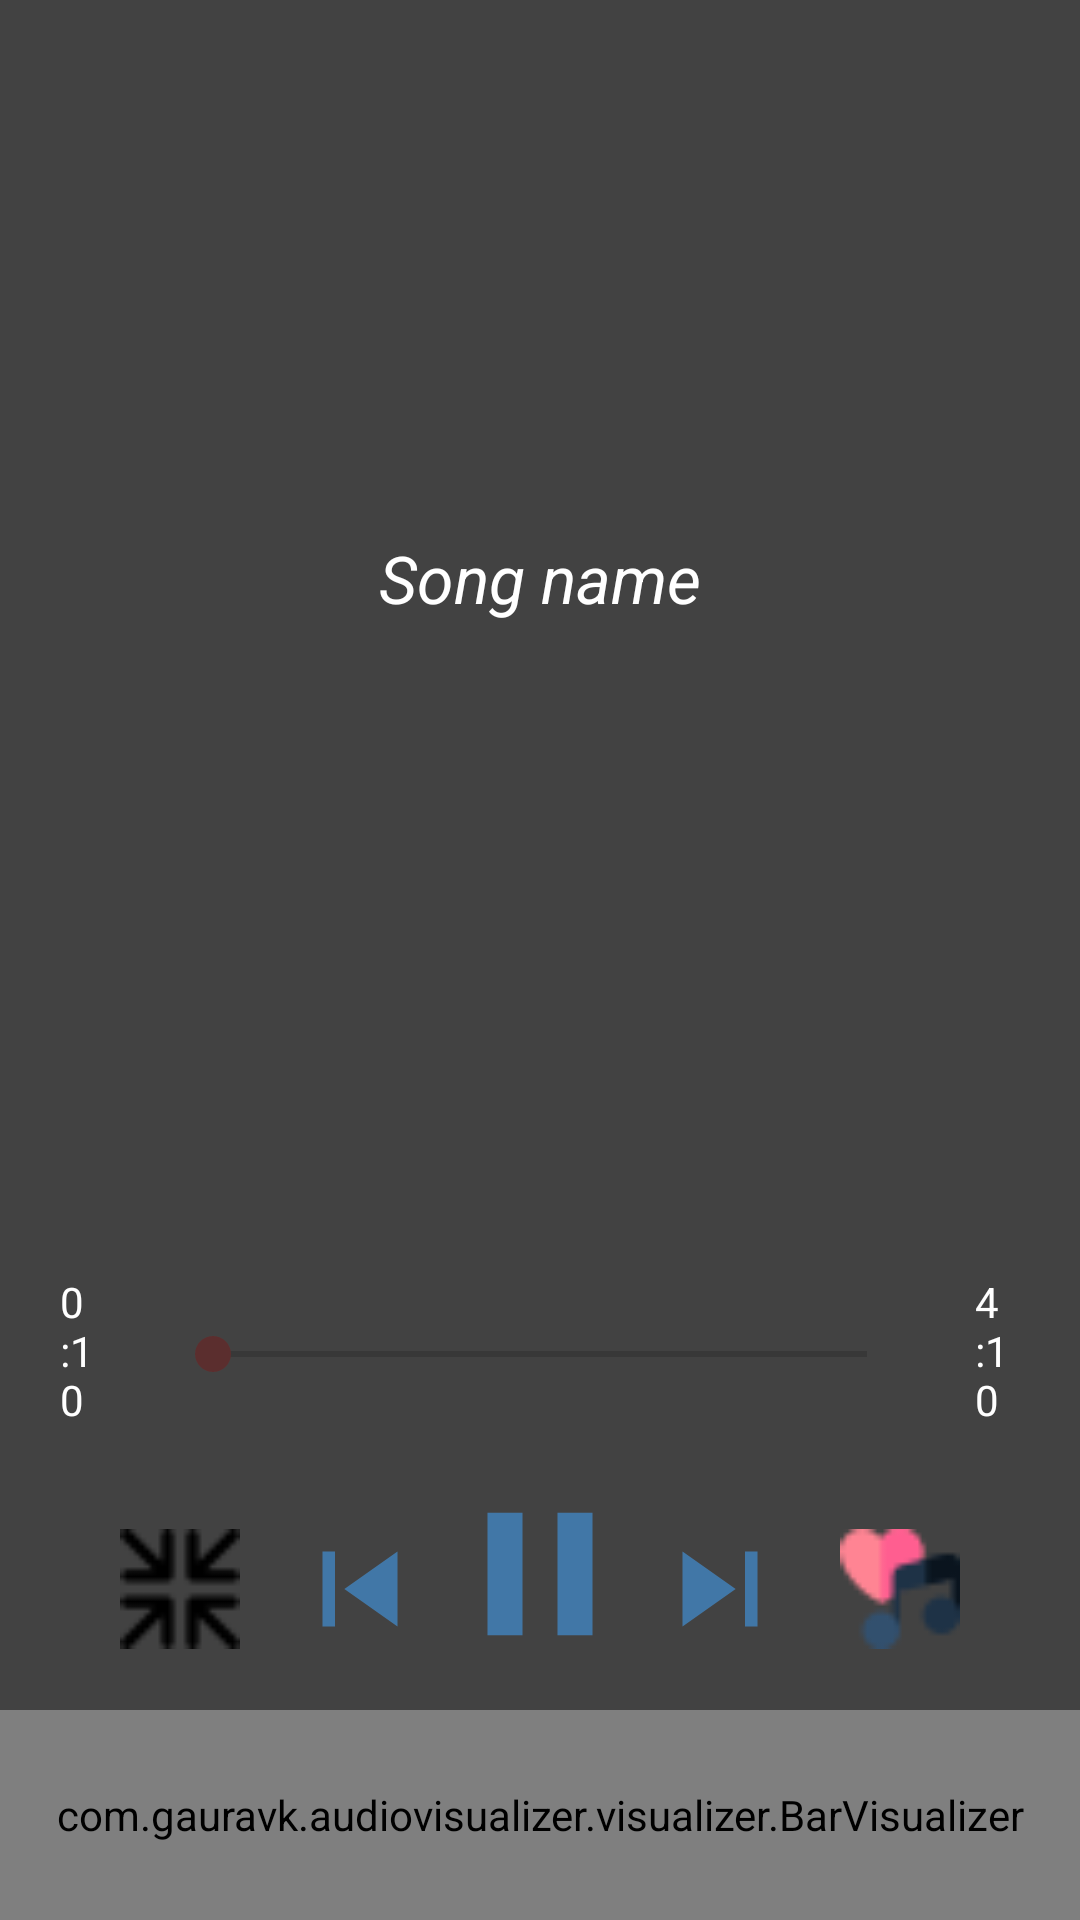

Icon bounding boxes for this 1080x1920 phone screenshot, format (x1=x1, y1=y1, x2=x2, y2=y2):
aniadir favoritos: (x1=840, y1=1529, x2=960, y2=1649)
anterior cancion: (x1=322, y1=1551, x2=398, y2=1627)
comprimir: (x1=120, y1=1529, x2=240, y2=1649)
pausa: (x1=487, y1=1512, x2=593, y2=1636)
siguiente cancion: (x1=682, y1=1551, x2=758, y2=1627)
